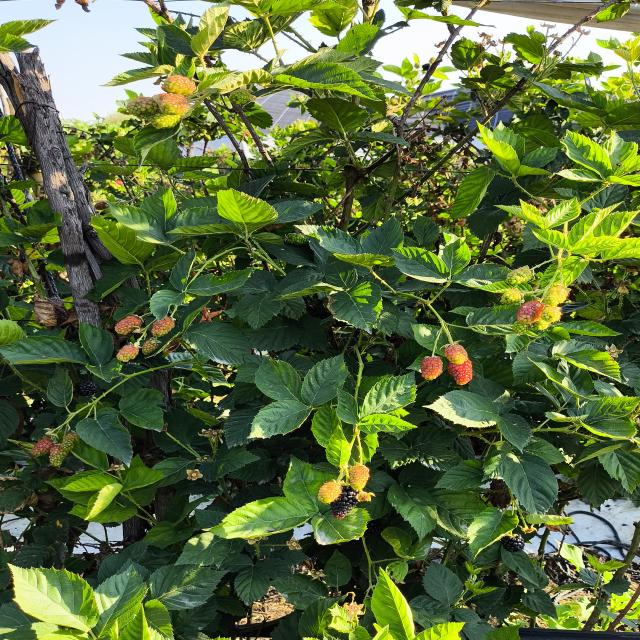maduro: (501, 534, 524, 552)
marron: (330, 487, 357, 519)
naranja: (517, 300, 546, 325), (447, 358, 472, 385), (114, 316, 142, 335), (420, 357, 443, 380), (151, 317, 175, 336), (444, 345, 468, 364), (31, 437, 53, 456), (116, 344, 139, 362), (49, 445, 66, 466), (141, 338, 161, 355)
verde: (153, 93, 190, 116), (161, 75, 196, 96), (127, 96, 158, 118), (542, 285, 570, 306), (505, 266, 534, 286), (318, 481, 343, 504), (349, 465, 370, 490), (228, 88, 254, 106), (150, 115, 181, 129), (61, 432, 80, 452), (541, 305, 562, 323), (501, 289, 523, 304), (512, 320, 527, 333)
